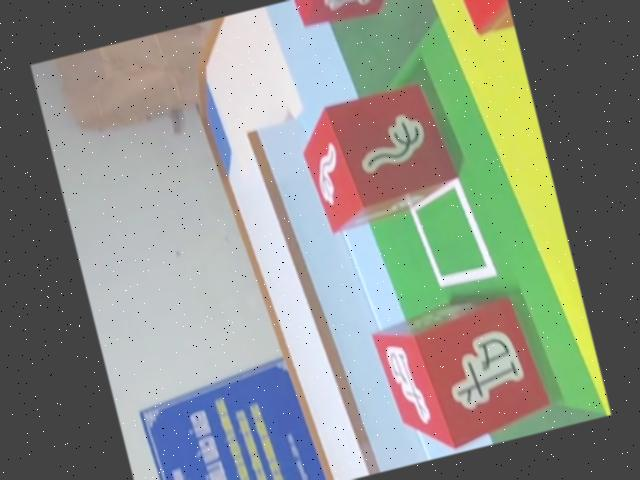R2 Real: (361, 284, 555, 463), (285, 75, 465, 239), (278, 0, 437, 38)
